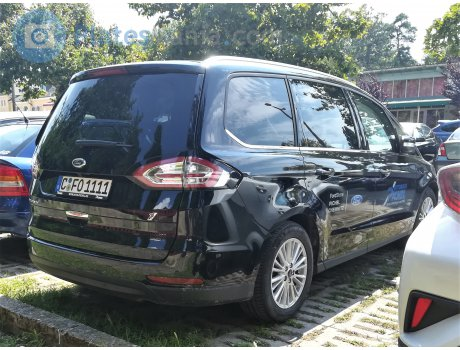License Plates: (63, 176, 106, 193)
